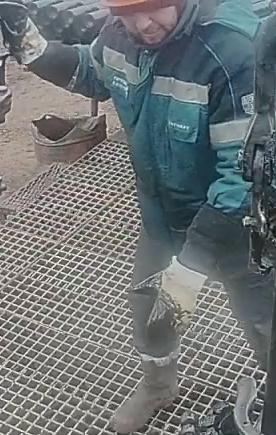gloves: (128, 251, 209, 339), (0, 1, 48, 69)
vest: (89, 12, 260, 234)
